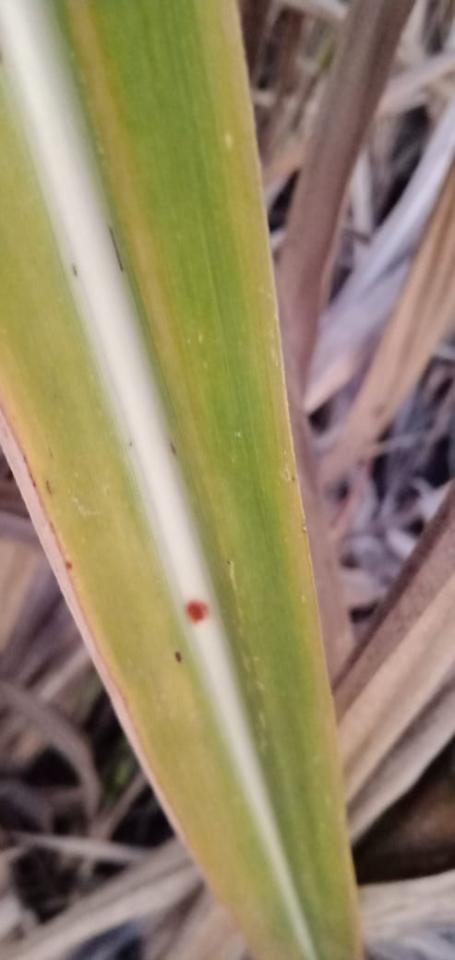RedRot: (182, 600, 213, 627)
Rust: (104, 223, 127, 275), (172, 649, 184, 668), (45, 442, 56, 462), (45, 477, 54, 497), (169, 439, 178, 458), (71, 262, 80, 279), (127, 440, 133, 449)
Yellow: (0, 388, 241, 927)
